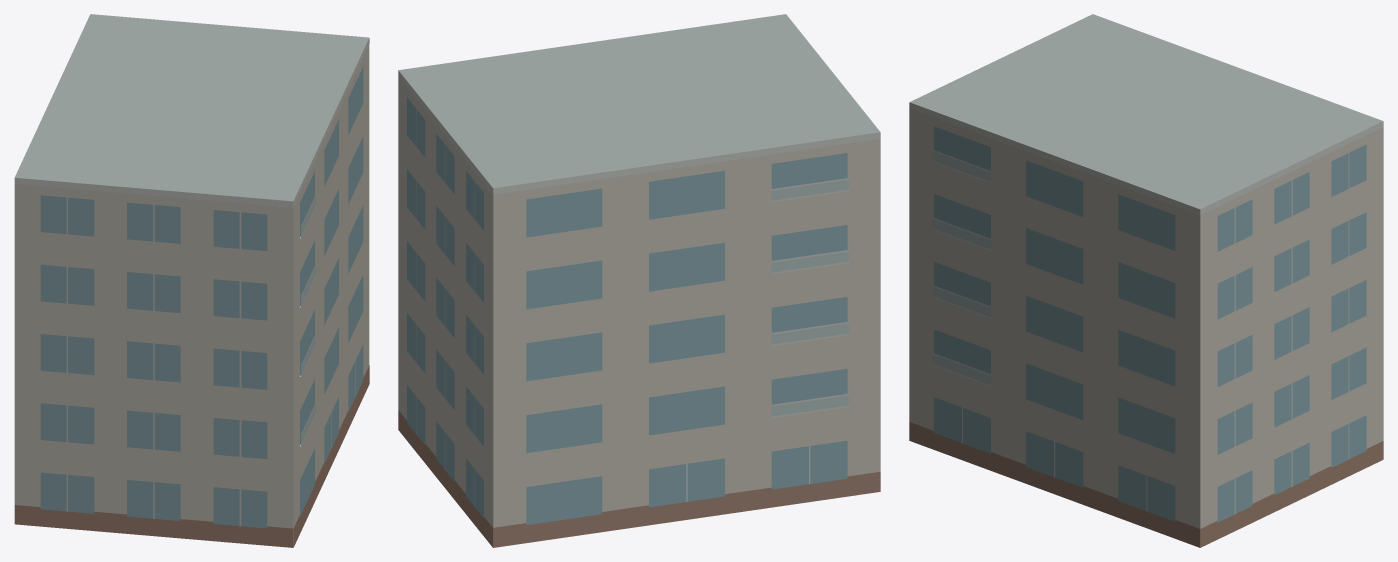
The model's file is survey-upis-32846988.glb.
The picture shows the model from 3 angles, left to right: view 1: azimuth 30°, elevation 25°; view 2: azimuth 150°, elevation 25°; view 3: azimuth 270°, elevation 25°; orthographic projection. The views are drawn at different scales.
Visible parts, largest first — view 1: survey-upis-32846988.tmp; view 2: survey-upis-32846988.tmp; view 3: survey-upis-32846988.tmp.
Boxes of the visible parts, left/top/right/bottom form: survey-upis-32846988.tmp: left=14, top=14, right=369, bottom=547; survey-upis-32846988.tmp: left=398, top=14, right=880, bottom=547; survey-upis-32846988.tmp: left=909, top=14, right=1383, bottom=547.
Bounding box in the file's own units: 16.84 × 13.6 × 17.27.
